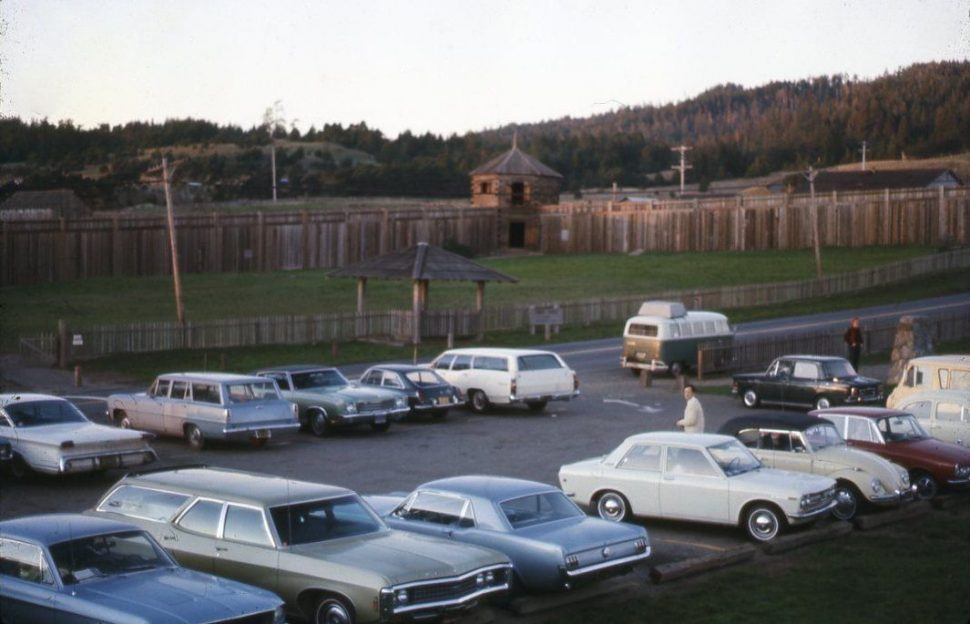car: (90, 469, 469, 624), (338, 474, 659, 584), (1, 500, 279, 624), (554, 419, 825, 545), (723, 404, 911, 523), (105, 372, 302, 454), (802, 399, 970, 488), (1, 385, 165, 473), (407, 343, 592, 411), (252, 358, 413, 433), (727, 349, 885, 416), (360, 357, 462, 417), (883, 354, 970, 414)
